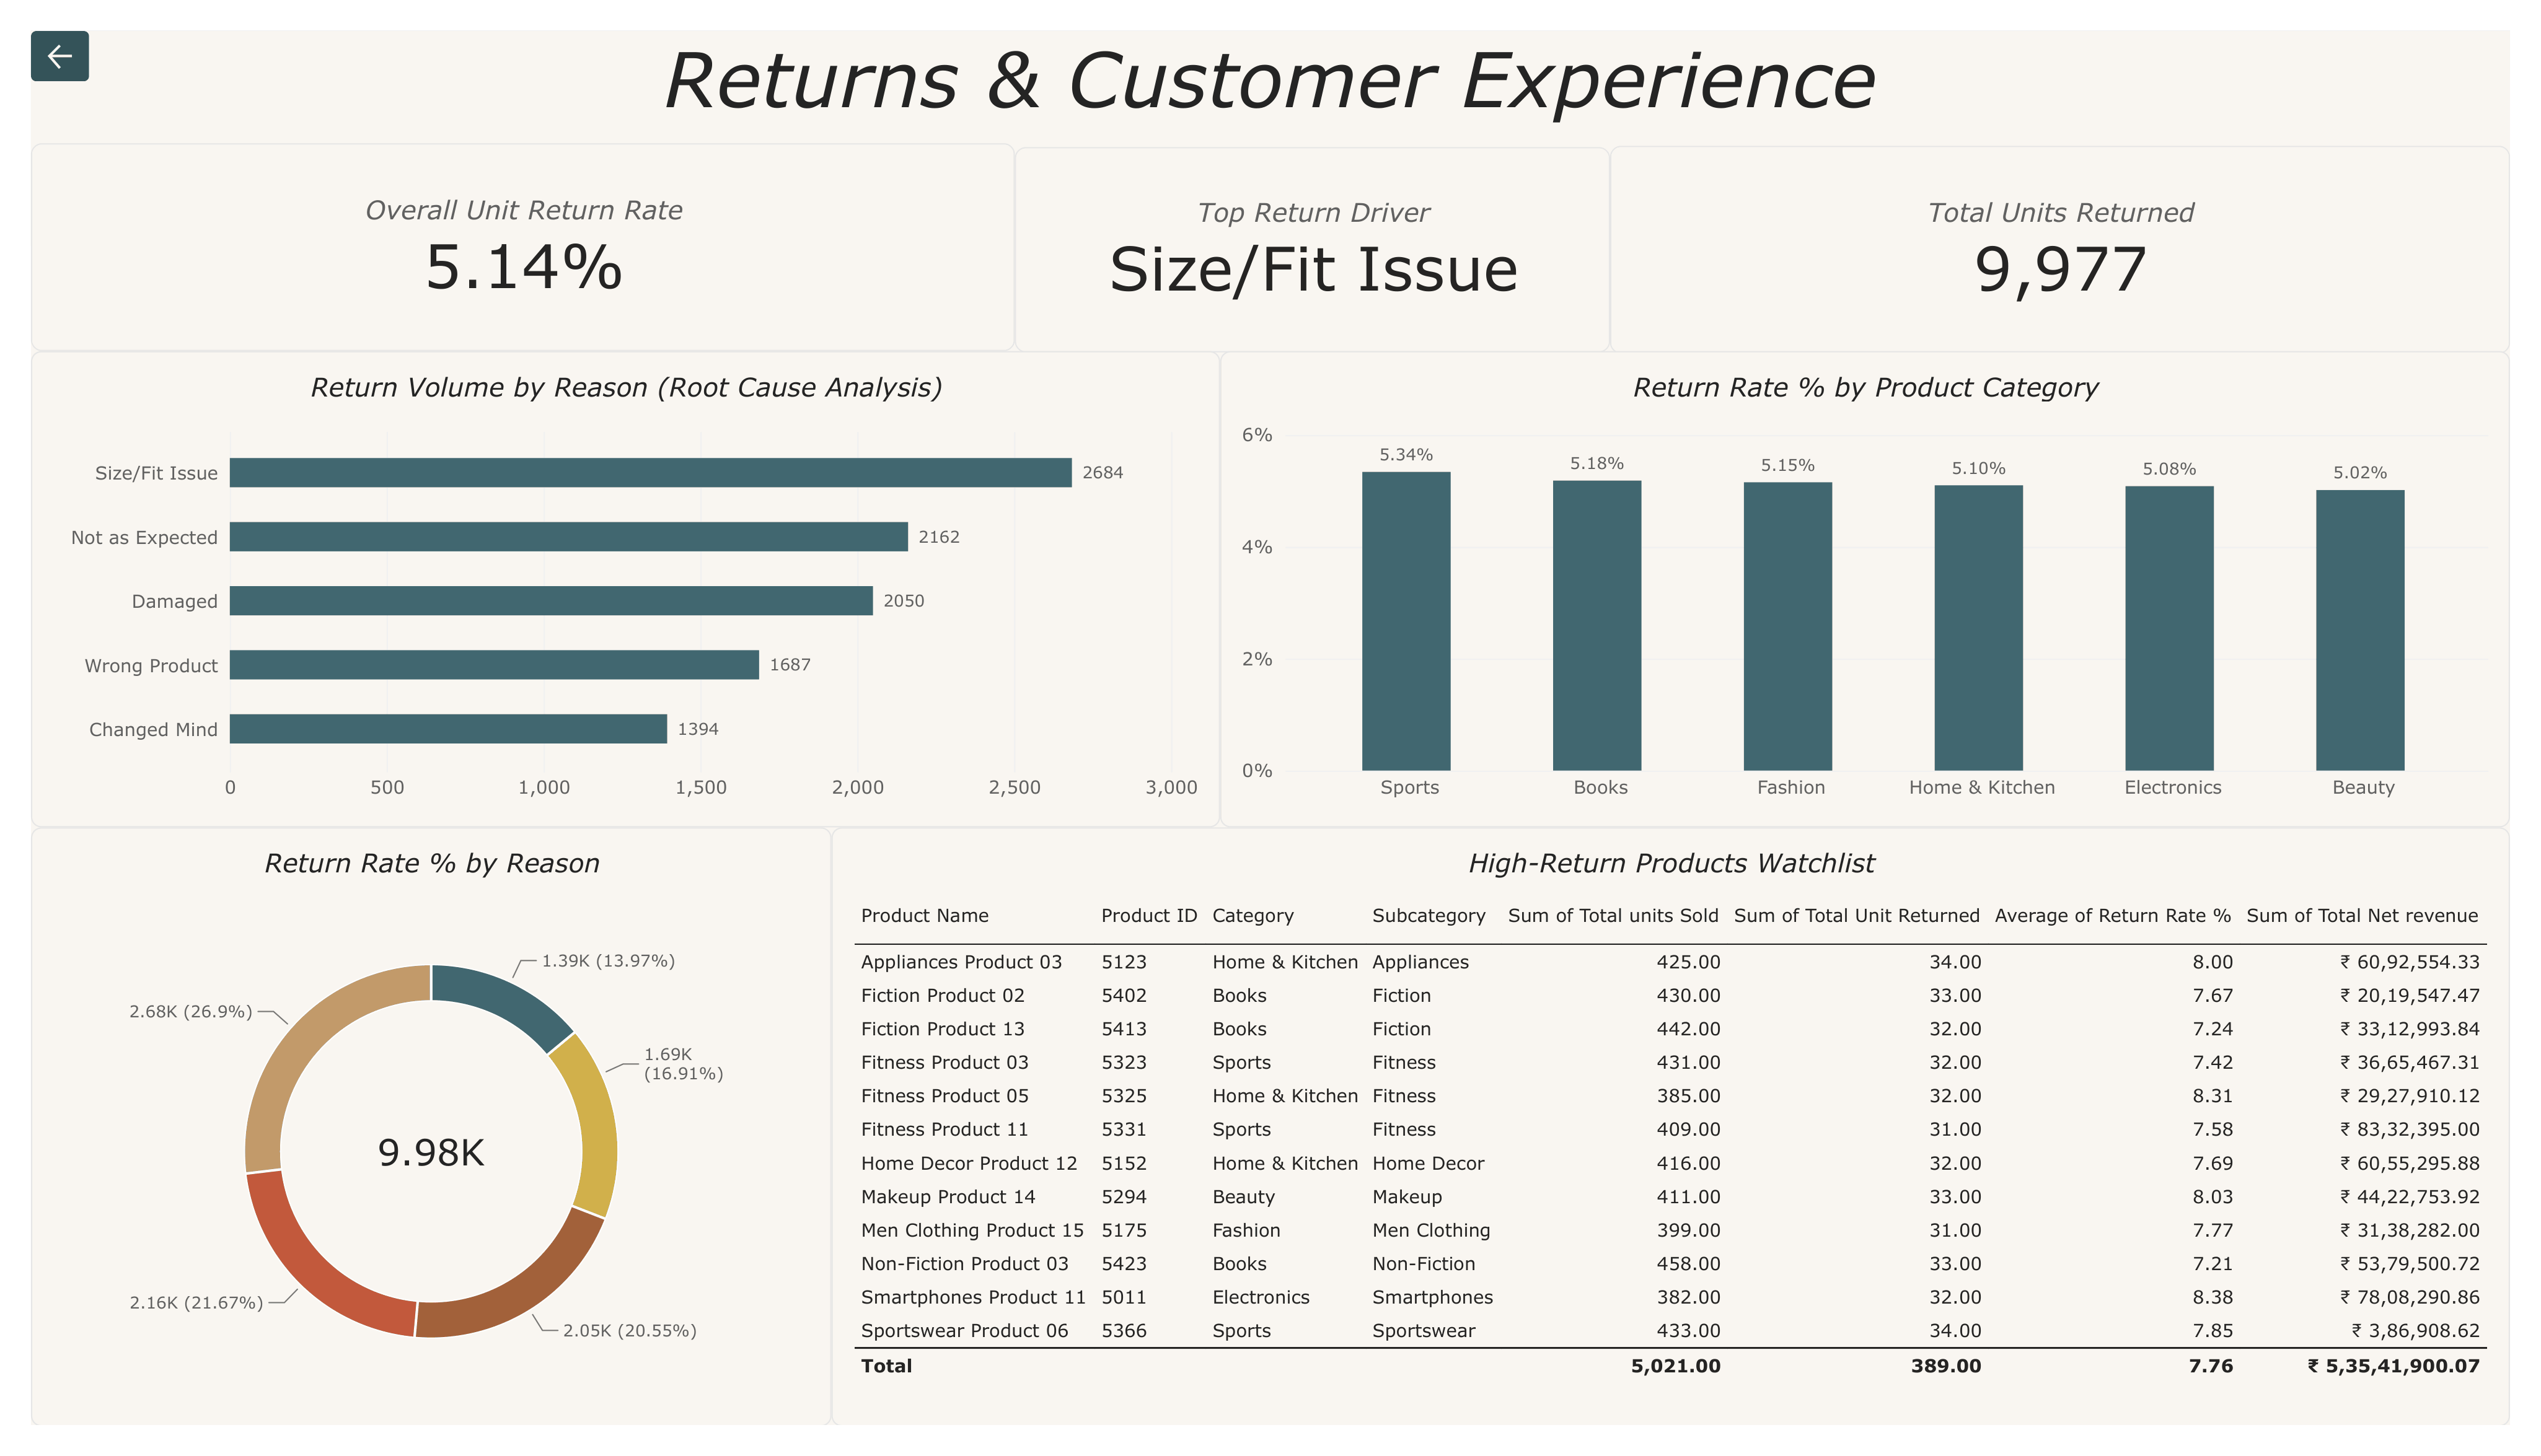

The page's visual inventory and layout, read from the dashboard file:
{"tool":"powerbi","page":{"name":"Returns & Customer Experience","canvas":[1920,1080],"ordinal":3},"visuals":[{"type":"cardVisual","fields":{"Data":["Sum(shopsphere vw_return_summary.returned_units)"]},"box":[1223.3,88.7,696.7,161.1],"z":0},{"type":"cardVisual","fields":{"Data":["shopsphere vw_category_performance.Overall Return Rate %"]},"box":[0,86.9,761.9,161.1],"z":1000},{"type":"cardVisual","fields":{"Data":["Min(shopsphere vw_return_summary.return_reason)"]},"box":[761.9,90.5,461.1,158.5],"z":2000},{"type":"clusteredBarChart","title":"Return Volume by Reason (Root Cause Analysis)","fields":{"Category":["shopsphere vw_return_summary.return_reason"],"Y":["Sum(shopsphere vw_return_summary.returned_units)"]},"box":[0,247.9,921.1,369.2],"z":3000},{"type":"clusteredColumnChart","title":"Return Rate % by Product Category","fields":{"Category":["shopsphere vw_category_performance.category"],"Y":["shopsphere vw_category_performance.Overall Return Rate %"]},"box":[921.1,247.9,998.9,369.2],"z":4000},{"type":"tableEx","title":"High-Return Products Watchlist","fields":{"Values":["shopsphere vw_product_performance.product_name","shopsphere vw_product_performance.product_id","shopsphere vw_product_performance.category","shopsphere vw_product_performance.subcategory","Sum(shopsphere vw_product_performance.total_units_sold)","Sum(shopsphere vw_product_performance.total_units_returned)","Avg(shopsphere vw_product_performance.Return Rate %)","Sum(shopsphere vw_product_performance.total_net_revenue)"]},"box":[619.6,617.5,1300.9,463.1],"z":5000},{"type":"textbox","box":[0,0,1920.1,86],"z":6000},{"type":"donutChart","title":"Return Rate % by Reason","fields":{"Category":["shopsphere vw_return_summary.return_reason"],"Y":["Sum(shopsphere vw_return_summary.returned_units)"]},"box":[0,617.5,619.6,463.1],"z":7000},{"type":"actionButton","box":[0,0,45,39],"z":8000}]}

Visuals, with their boxes on the page's 1920x1080 design canvas (x1, y1, x2, y2). These are canvas units, not pixel positions in the 2541x1456 screenshot, which may show the page scaled, cropped or inside an application window:
cardVisual - Sum(shopsphere vw_return_summary.returned_units): detection(1223, 89, 1920, 250)
cardVisual - shopsphere vw_category_performance.Overall Return Rate %: detection(0, 87, 762, 248)
cardVisual - Min(shopsphere vw_return_summary.return_reason): detection(762, 90, 1223, 249)
"Return Volume by Reason (Root Cause Analysis)" clusteredBarChart: detection(0, 248, 921, 617)
"Return Rate % by Product Category" clusteredColumnChart: detection(921, 248, 1920, 617)
"High-Return Products Watchlist" tableEx: detection(620, 618, 1920, 1081)
textbox: detection(0, 0, 1920, 86)
"Return Rate % by Reason" donutChart: detection(0, 618, 620, 1081)
actionButton: detection(0, 0, 45, 39)
